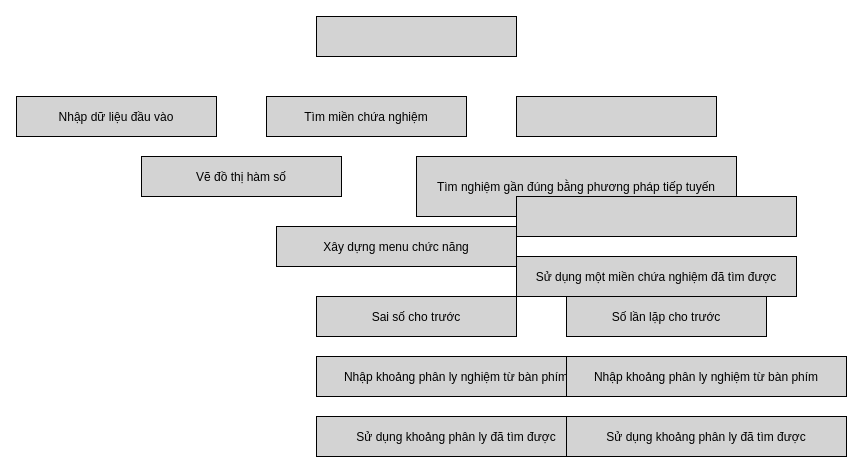
The diagram is 863 pixels wide and 473 high, and some of its shapes have lost their labels. Here are the shapes that lost their labels. From the top down, the centre of each, then its label:
At point 416,36: "Chương trình".
At point 616,116: "Tìm khoảng phân ly nghiệm".
At point 656,216: "Nhập miền chứa nghiệm từ bàn phím".
